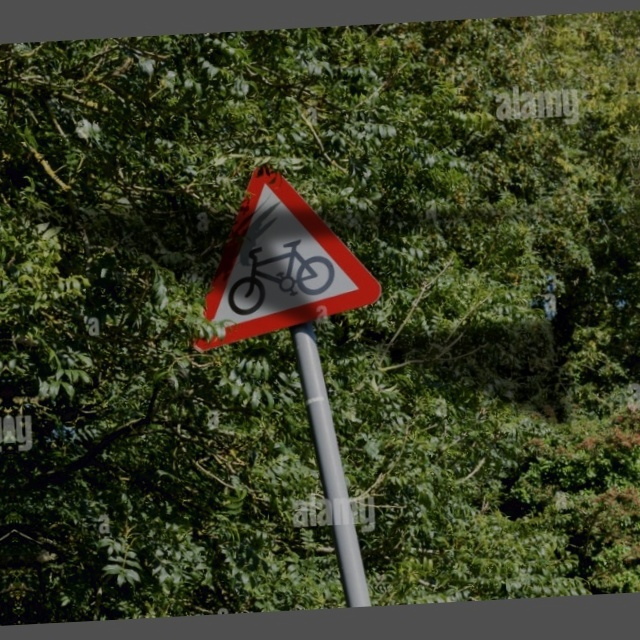Cycle_Crossing: (191, 157, 391, 339)
